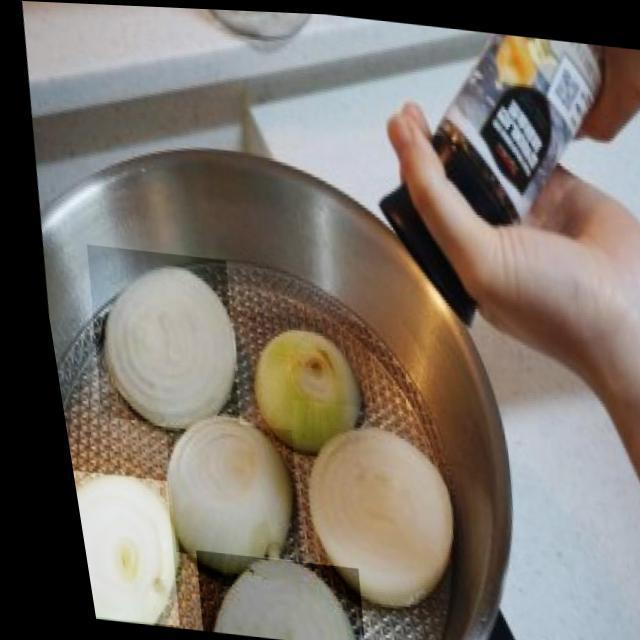Onion: (265, 397, 459, 603), (67, 244, 238, 431), (142, 414, 294, 564), (226, 308, 374, 462), (58, 469, 168, 625), (172, 549, 350, 640)
